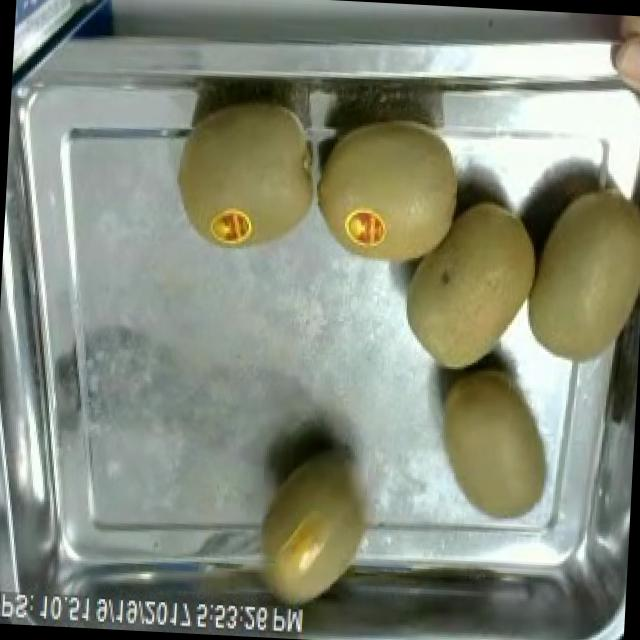Fruit: (163, 84, 338, 263), (244, 433, 388, 631), (393, 188, 541, 380), (305, 108, 473, 276), (425, 356, 568, 536), (523, 177, 640, 377), (603, 15, 640, 116)
